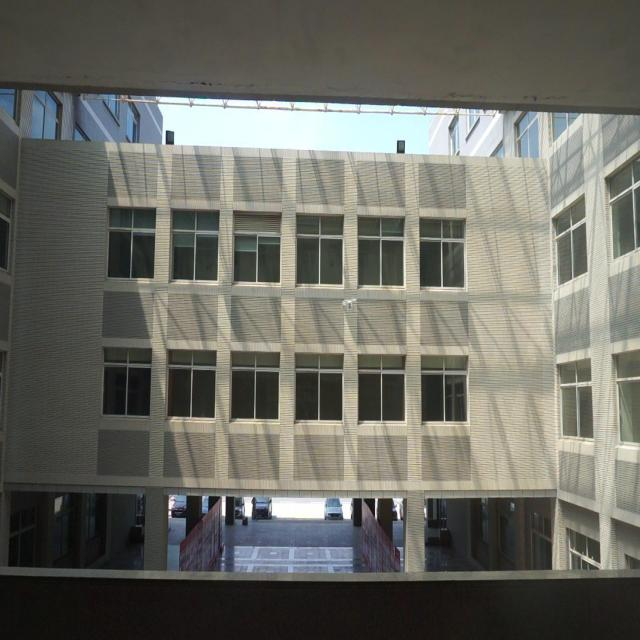UAV: (342, 299, 357, 308)
